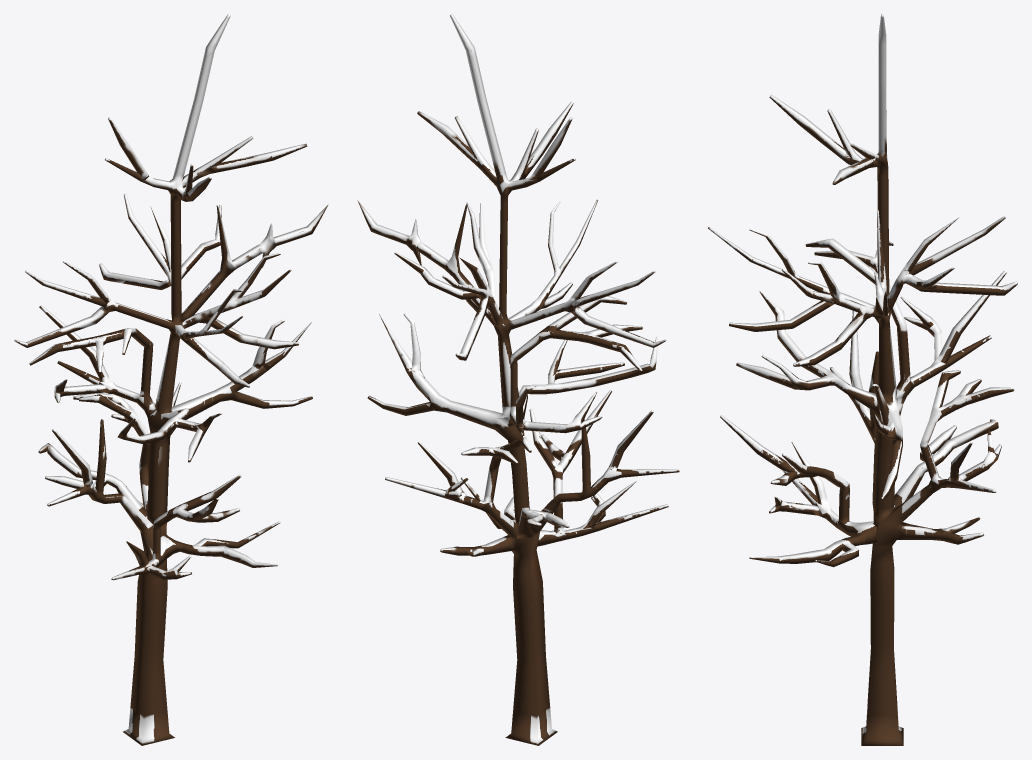
The model's file is Tree_under_snow.fbx.
The picture shows the model from 3 angles, left to right: view 1: azimuth 30°, elevation 25°; view 2: azimuth 150°, elevation 25°; view 3: azimuth 270°, elevation 25°; orthographic projection. The views are drawn at different scales.
Parts seen in each view (by area): view 1: Plane; view 2: Plane; view 3: Plane.
Boxes of the visible parts, x1=… form: Plane: x1=14, y1=14, x2=328, y2=745; Plane: x1=357, y1=14, x2=679, y2=745; Plane: x1=708, y1=14, x2=1017, y2=745.
Bounding box in the file's own units: 115 × 247 × 90.57.
